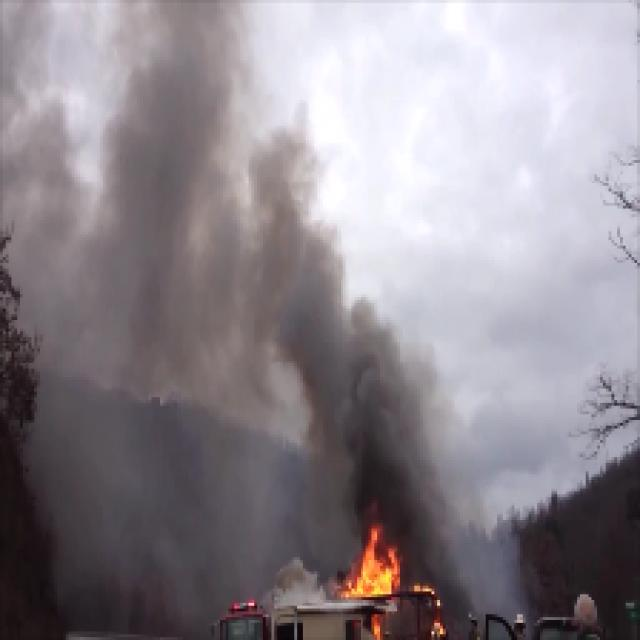fire: (360, 540, 400, 595)
smoke: (209, 232, 337, 370), (337, 368, 426, 526)
